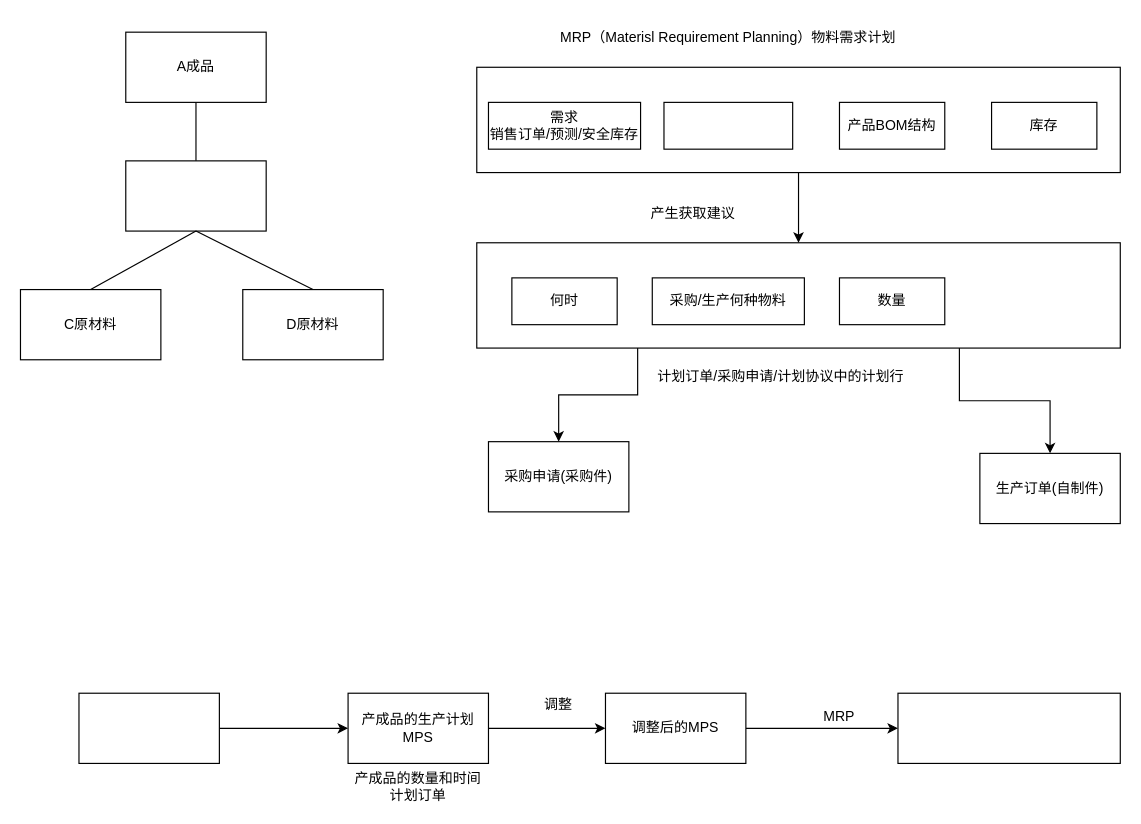
Some shapes in this 1141 by 824 pixel diagram are drawn without their labels. Each missing label, with the box of its shape:
B半成品: (125, 160, 266, 231)
供给 库存/固定库存/在途: (663, 101, 793, 149)
原材料的采购计划/半成品生产计划: (897, 692, 1120, 763)
计划独立需求 MD61: (78, 692, 219, 763)
